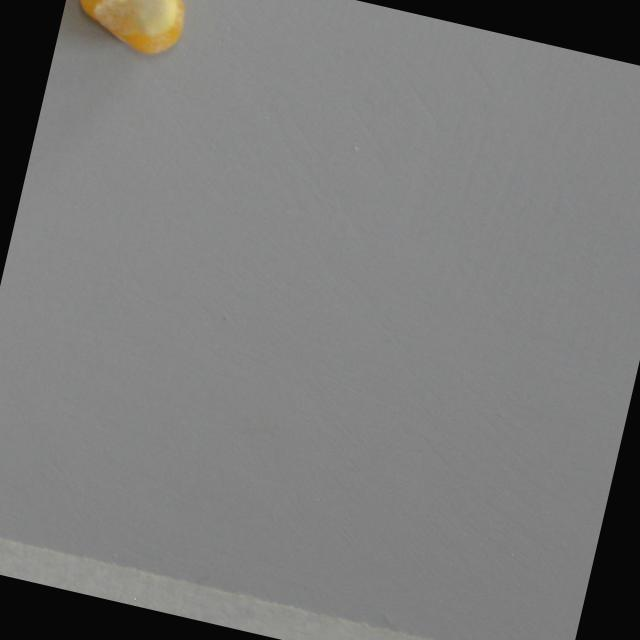pelicula: (62, 0, 192, 64)
